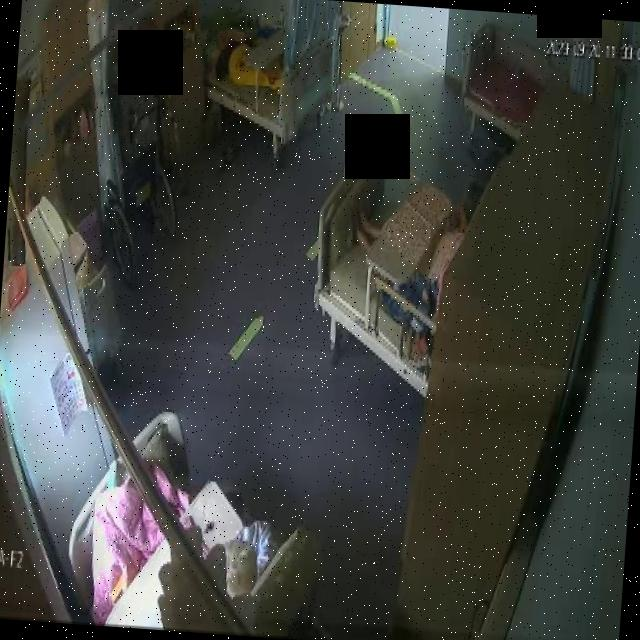bed: (62, 402, 320, 640), (310, 149, 470, 386), (202, 12, 340, 139), (457, 19, 547, 140)
